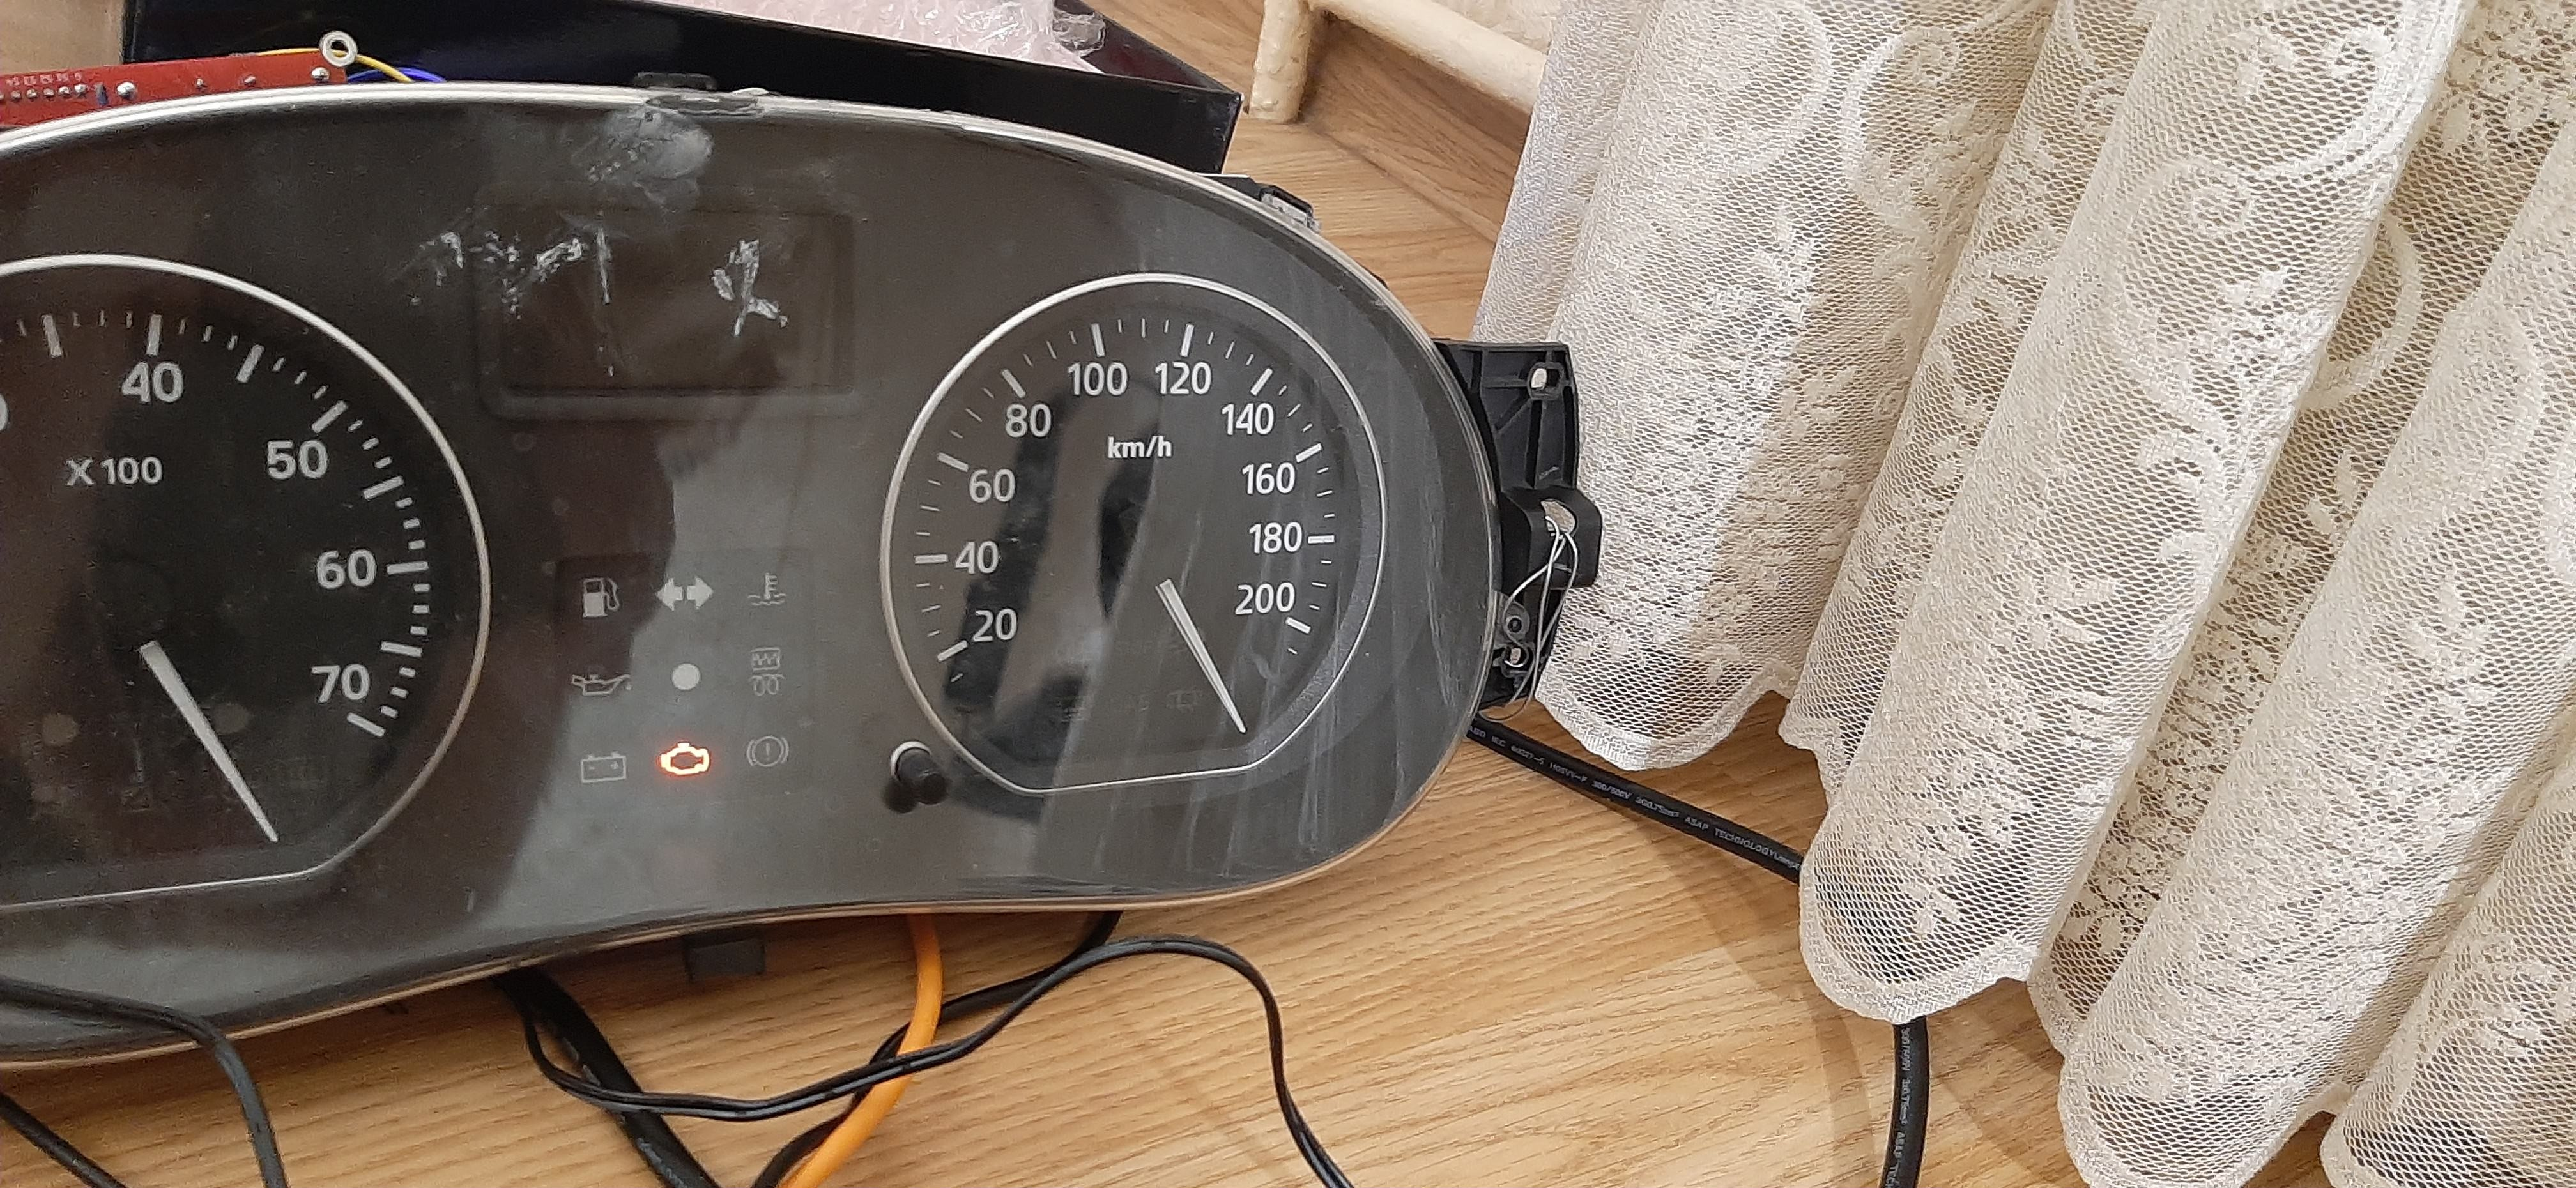engine19: (659, 741, 713, 777)
